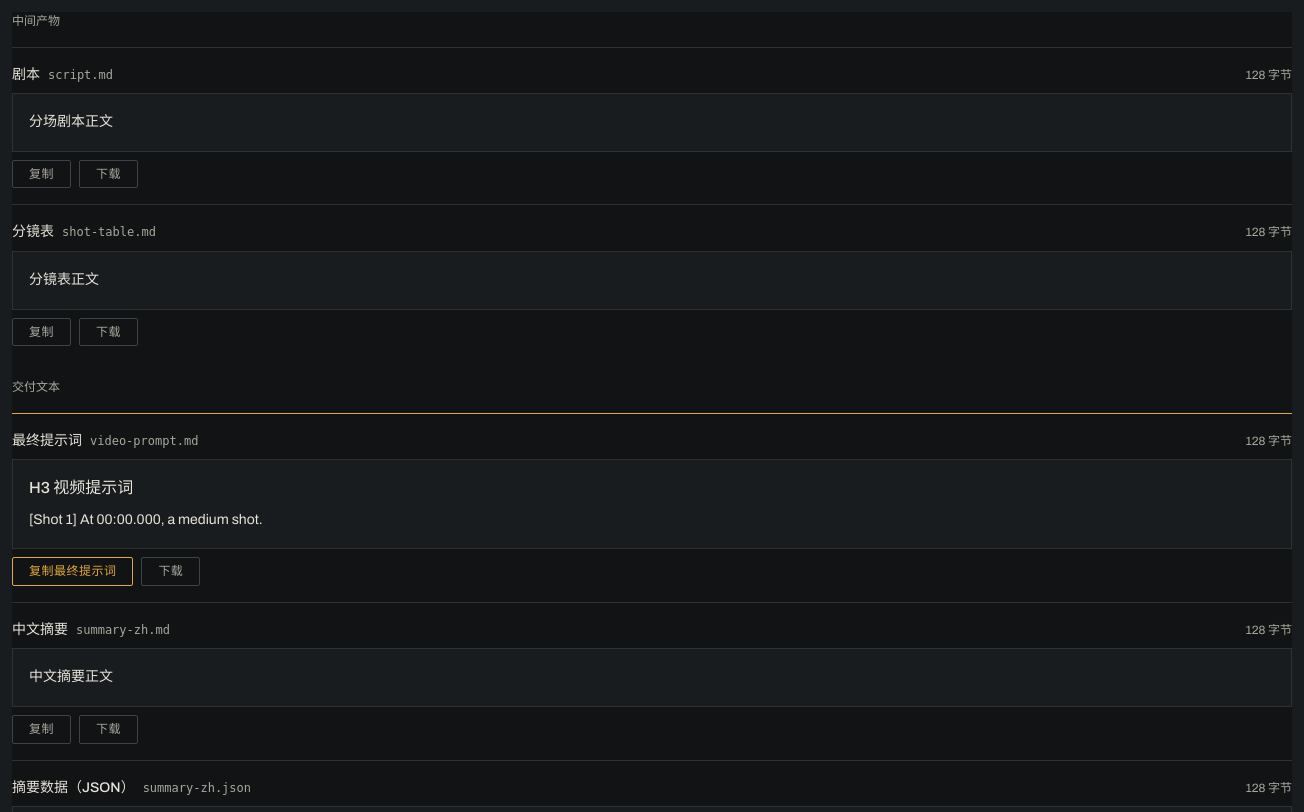
Test: 产物分区 › 复制最终提示词写入剪贴板并给出成功反馈
The width and height of the screenshot is (1304, 812).
Click the button "复制最终提示词": (73, 571) left=12, top=557, right=133, bottom=586
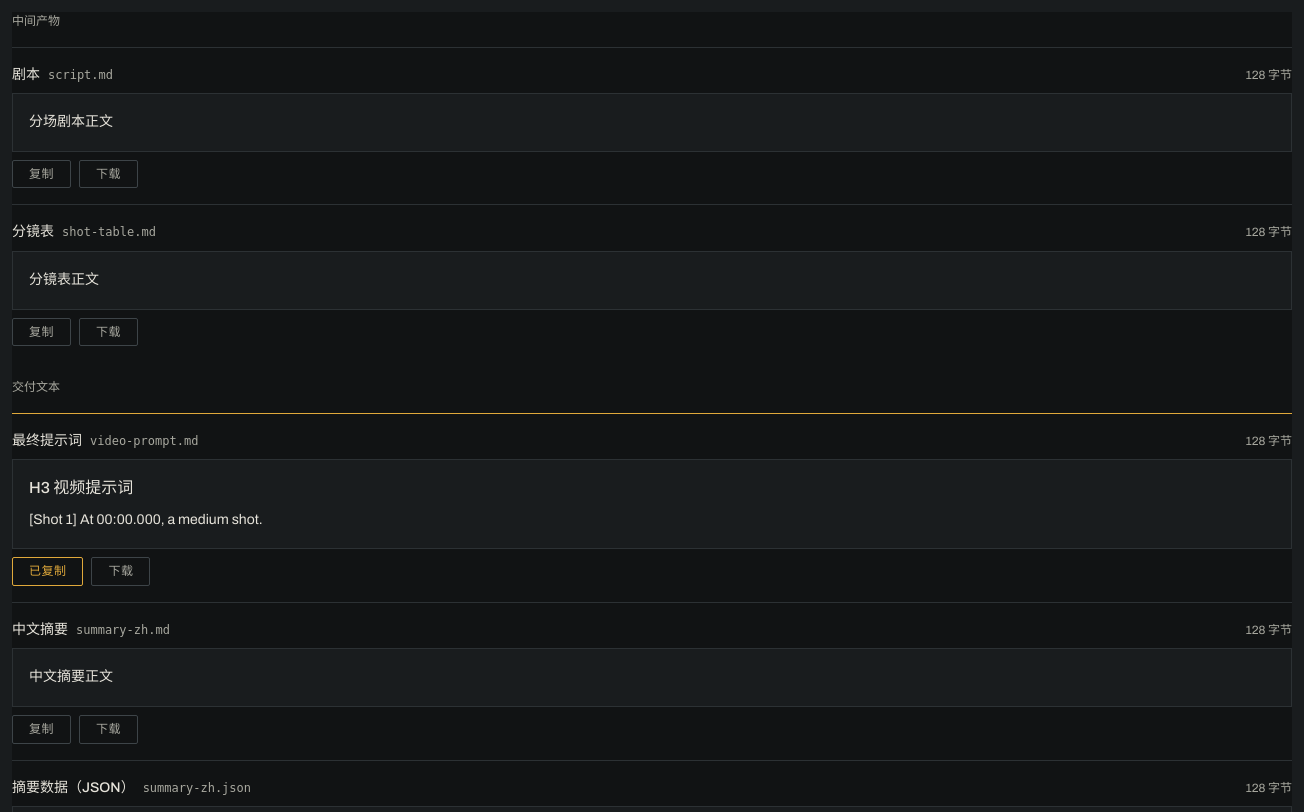
Expected: the button "已复制" is shown, left=12, top=557, right=84, bottom=586
